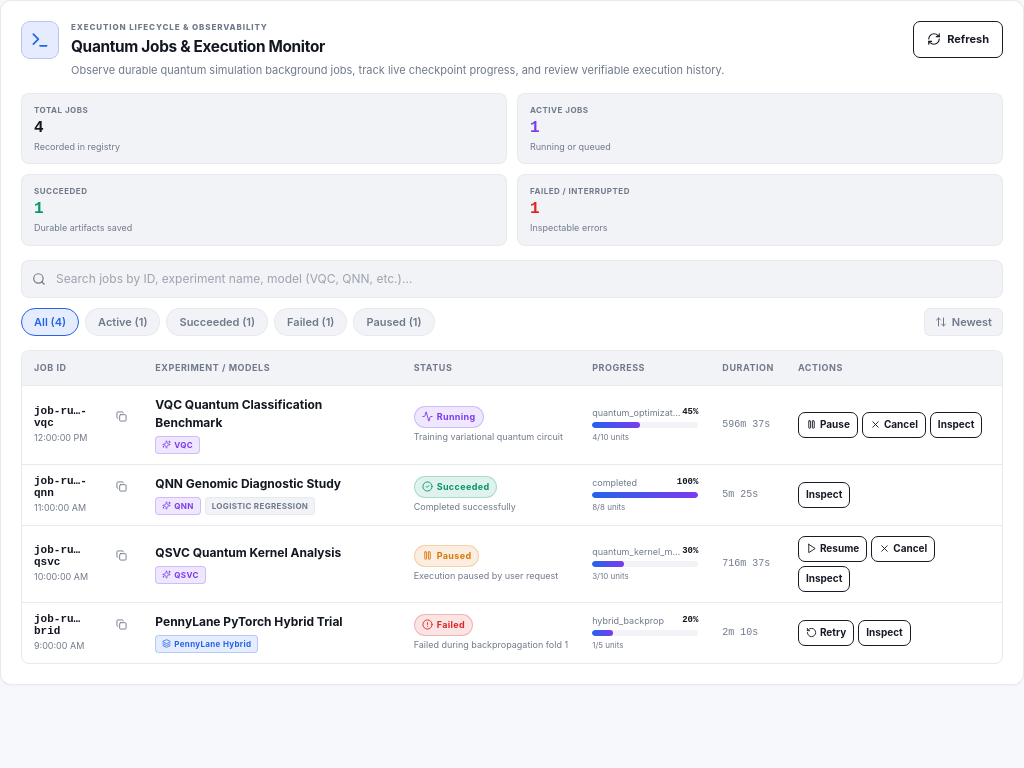
it: QuantumJobManager component › displays empty state when no jobs match filter
Check: the text "VQC Quantum Classification Benchmark" is shown, box [155,396,322,430]
Type "nonexistent-query-xyz" into the field labelled "Search jobs by ID, experiment name, model (VQC, QNN, etc.)…" at (512,278), box [21,260,1003,298]
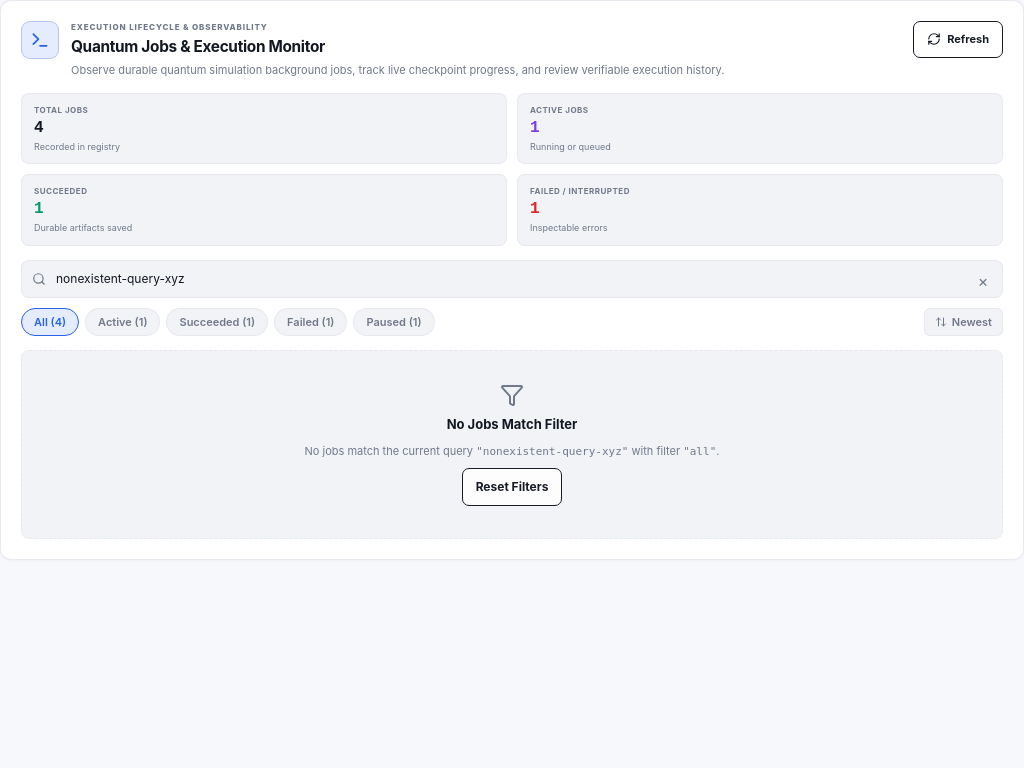
Check: the heading "No Jobs Match Filter" is shown, box [447,415,577,434]
